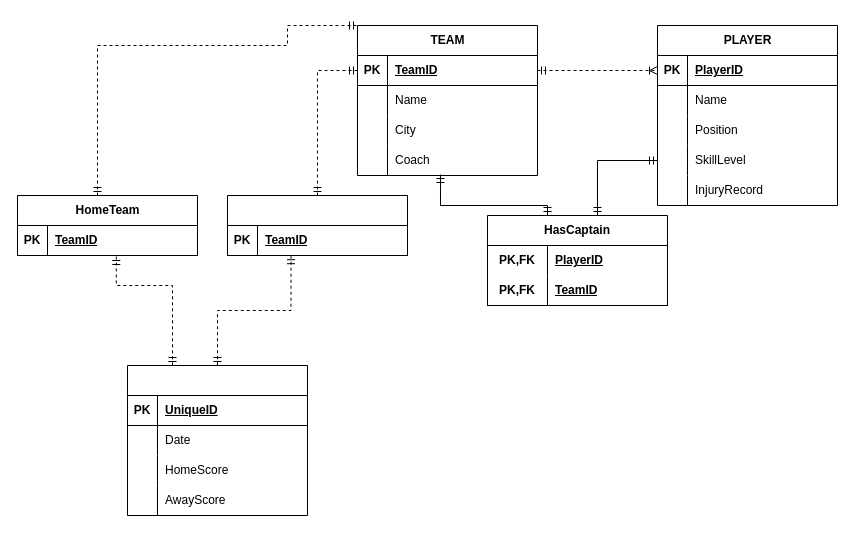
Some shapes in this 855 by 533 pixel diagram are drawn without their labels. Each missing label, with the box of its shape:
AwayTeam: (226, 194, 408, 256)
Game: (126, 364, 308, 516)
